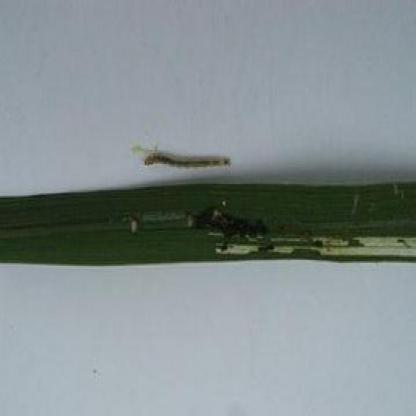leaf-folder: (136, 133, 238, 183)
